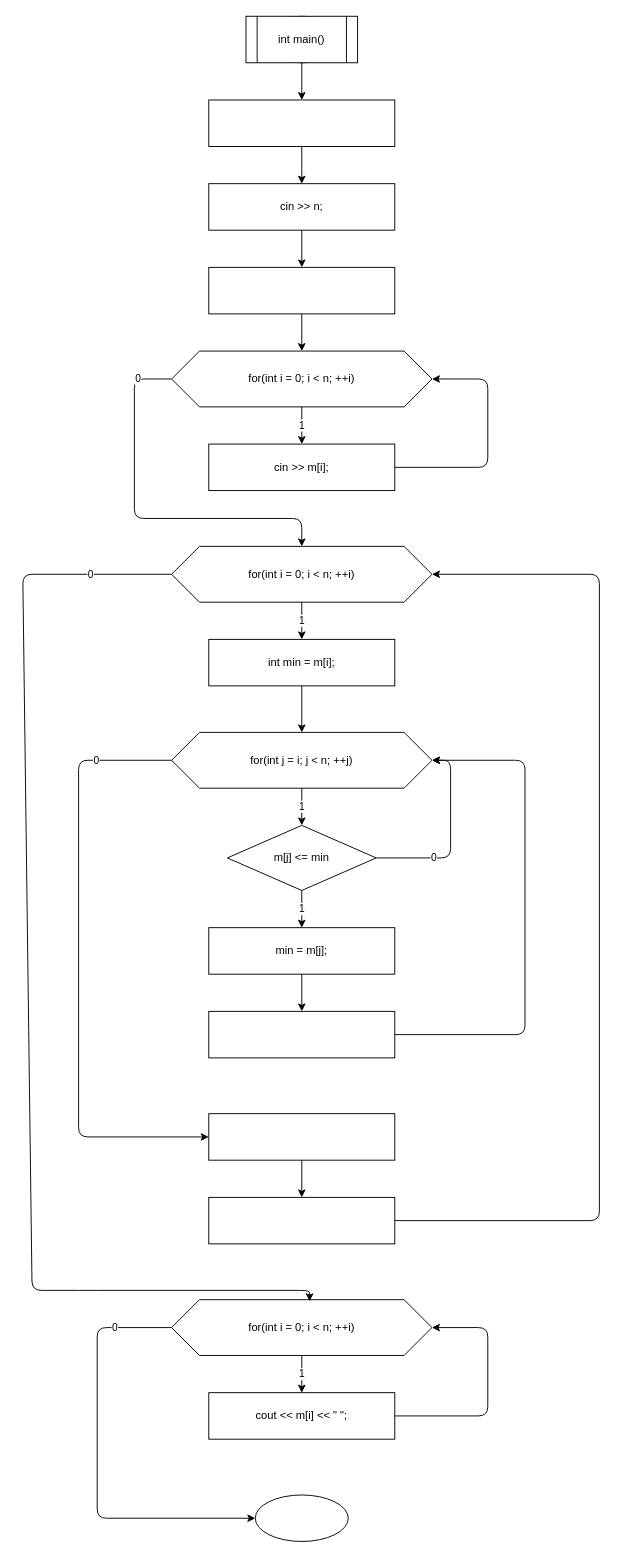
Image size: 623x1558. Some labels were removed from this diagram. The shapes that lost their labels are listed below. From the top down, each one's centre as x and y in pixels, then its label:
At (x=301, y=122): "int n, k;".
At (x=301, y=290): "int* m = new int[n]();".
At (x=301, y=1034): "k = j;".
At (x=301, y=1136): "m[k] = m[i];".
At (x=301, y=1220): "m[i] = min;".
At (x=301, y=1517): "return 0;".
